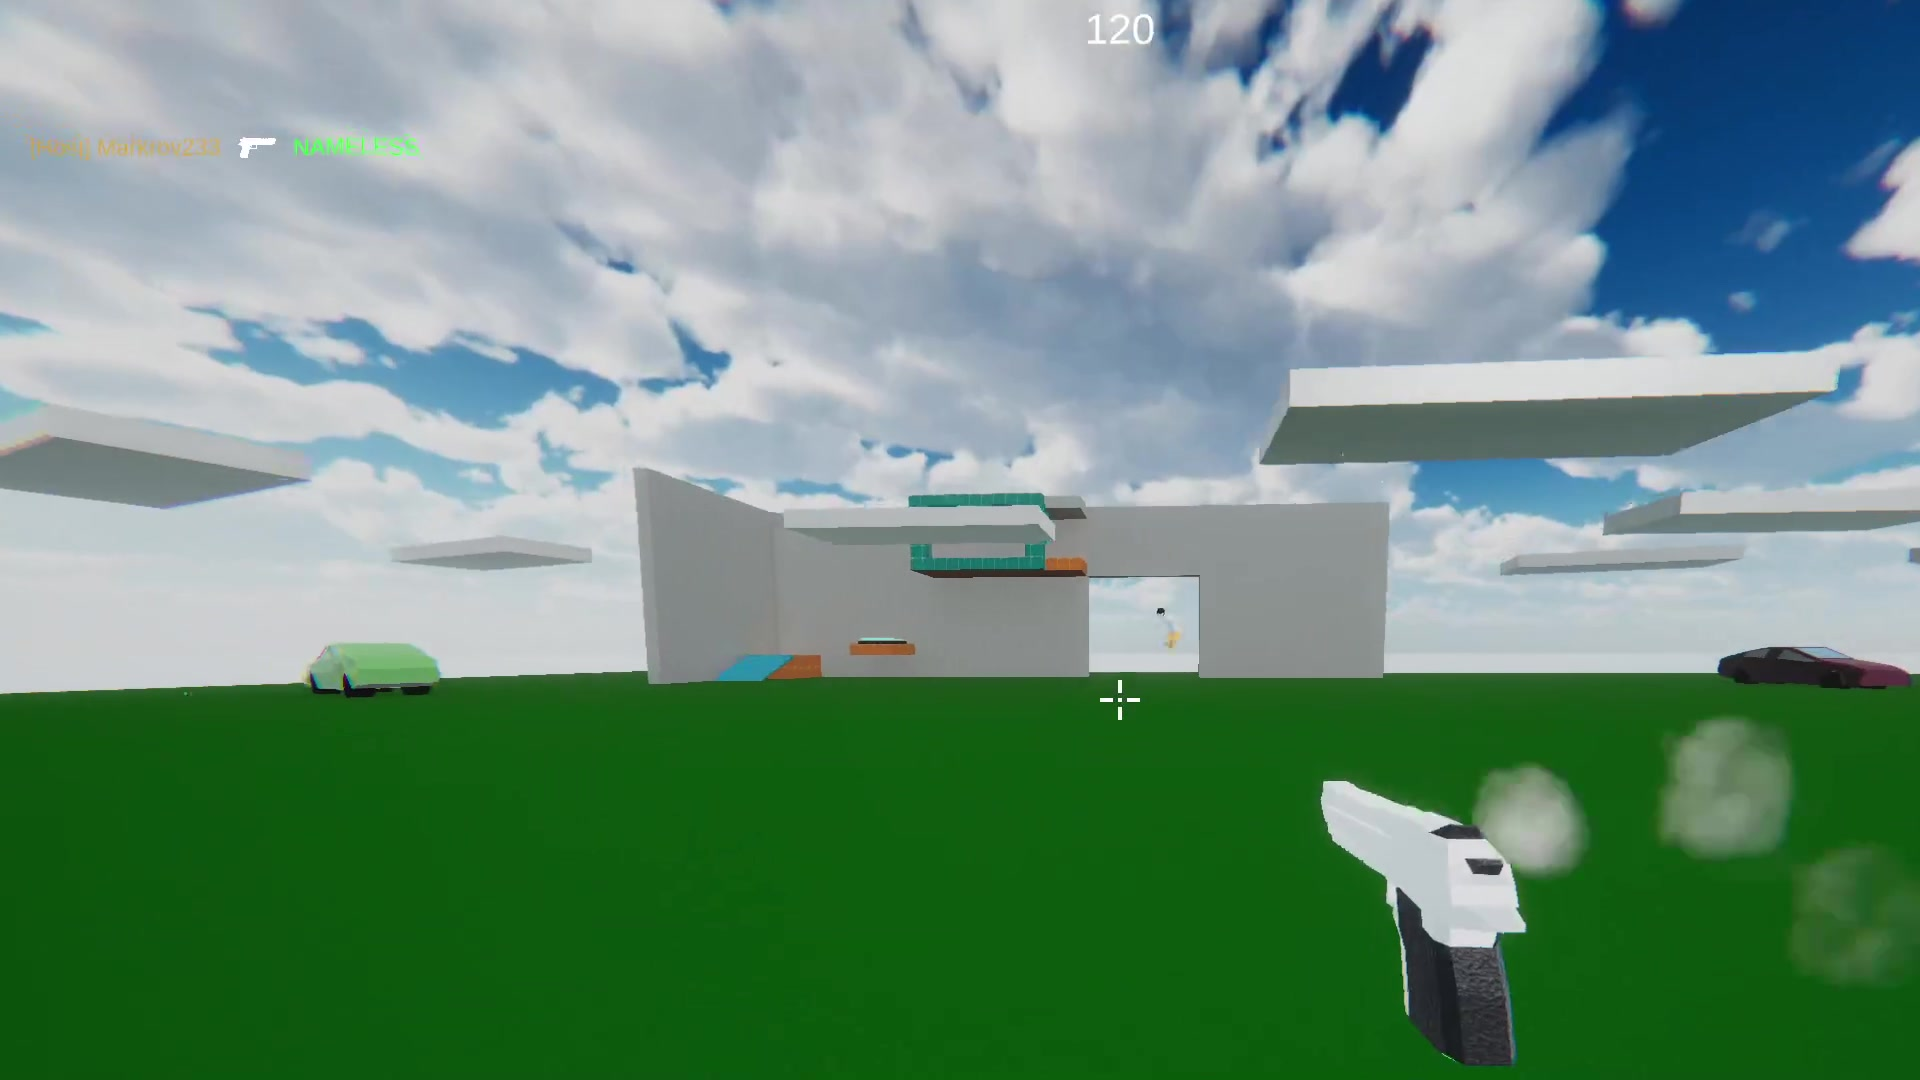human: (1147, 603, 1184, 656)
